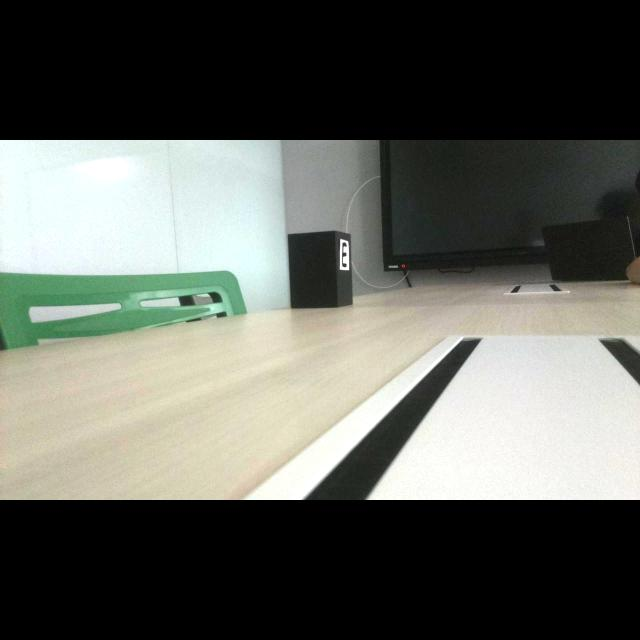E: (342, 242, 348, 268)
